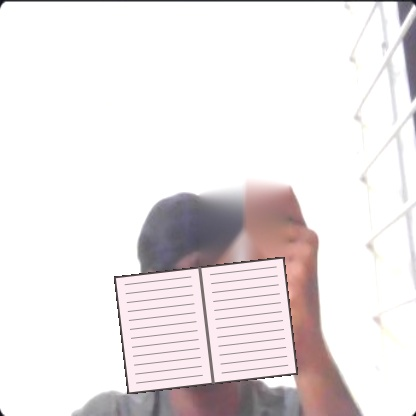book: (114, 256, 298, 394)
